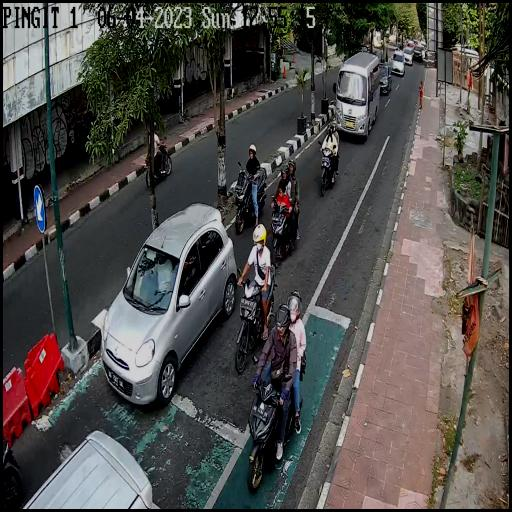mobil: (100, 203, 235, 415), (332, 53, 380, 138), (378, 61, 392, 94), (392, 52, 404, 76), (403, 46, 412, 66), (414, 46, 422, 62)
motor: (250, 352, 308, 490), (236, 266, 273, 370), (234, 160, 267, 234), (269, 195, 303, 260), (318, 142, 340, 196)
